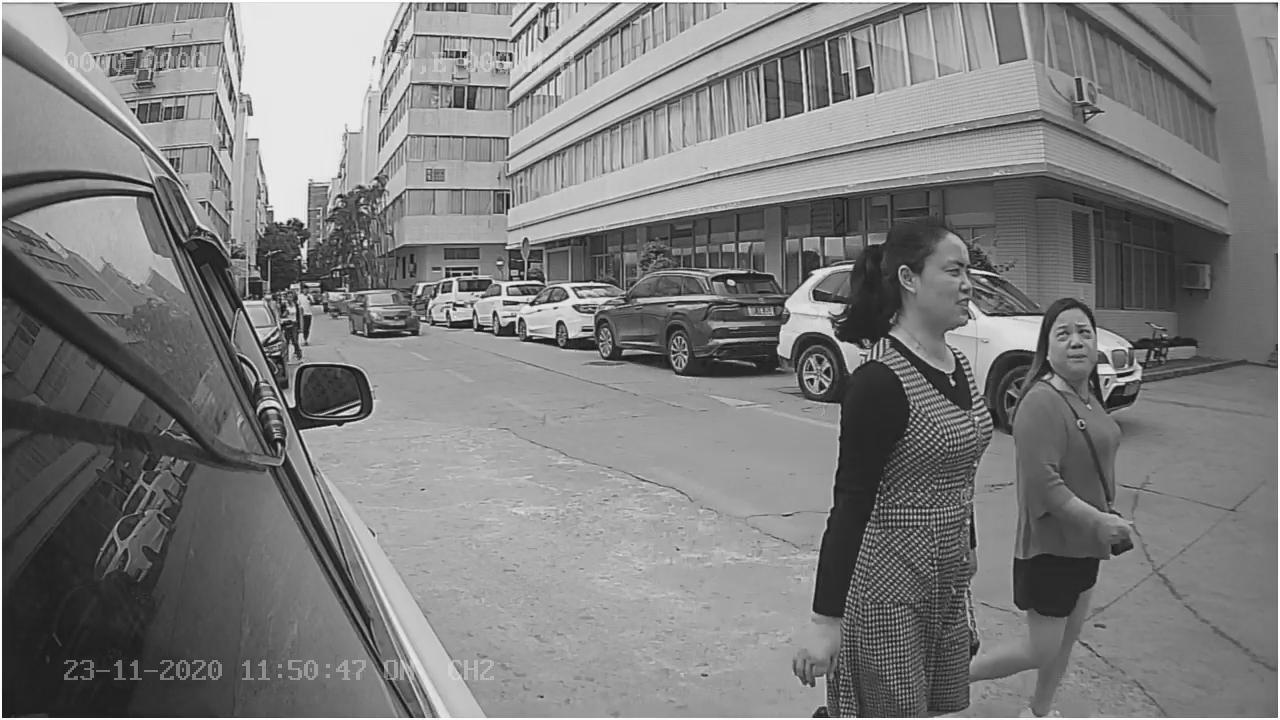person: (801, 217, 994, 535), (1008, 287, 1155, 582)
